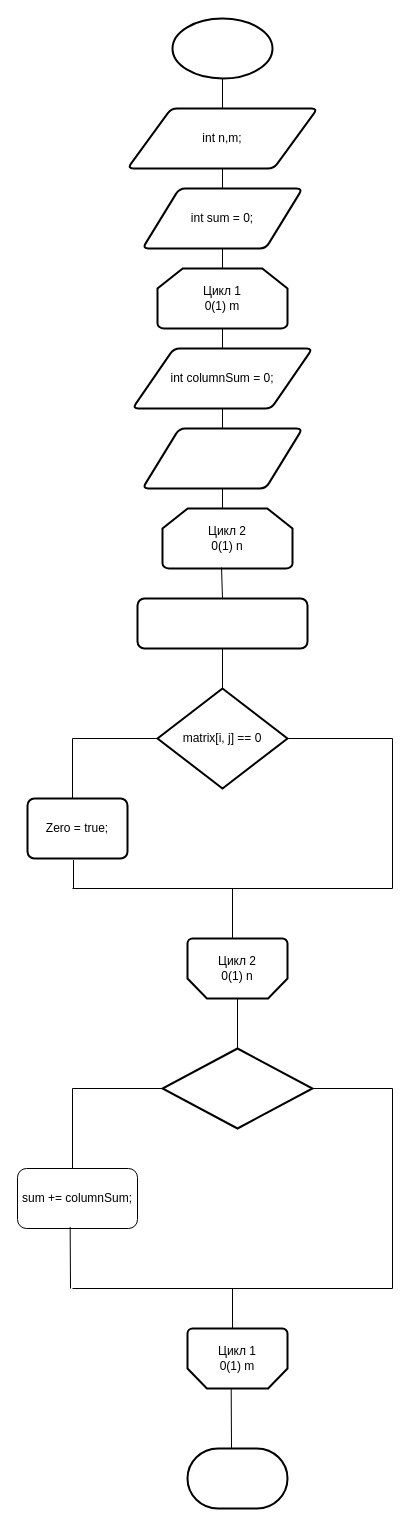
Image size: 411x1526. Some labels were removed from this diagram. The box of each missing label's shape, as (x1, y1, x2, y2) in pixels:
bool Zero = false;: (141, 427, 303, 489)
columnSum += matrix[i, j];: (136, 597, 308, 649)
return sum;: (186, 1447, 288, 1509)
Zero == true: (161, 1047, 313, 1129)
Начало: (171, 17, 273, 79)
